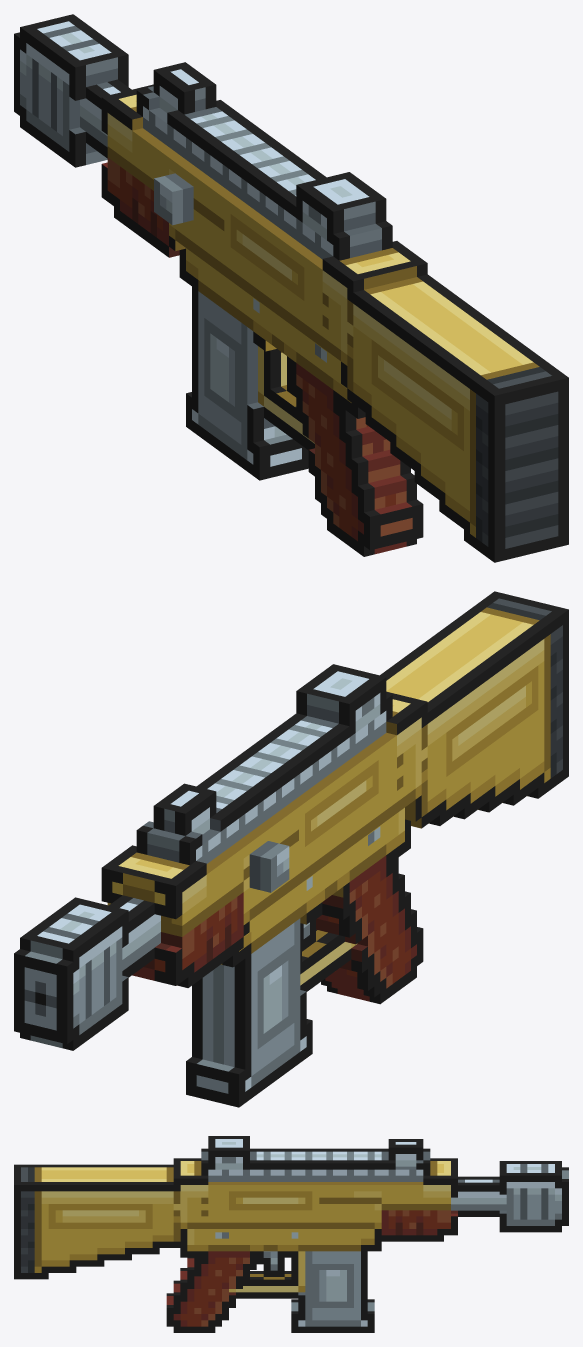
The model's file is Rifle.glb.
The picture shows the model from 3 angles, top to bottom: view 1: azimuth 30°, elevation 25°; view 2: azimuth 150°, elevation 25°; view 3: azimuth 270°, elevation 25°; orthographic projection. The views are drawn at different scales.
Visible parts, largest first — view 1: Body, Magazine, Slide; view 2: Body, Magazine, Slide; view 3: Body, Magazine, Trigger.
Part boxes in pixels (box(x1,y1,x2,y2)): Body: box(14, 14, 568, 562); Magazine: box(186, 287, 308, 480); Slide: box(154, 173, 193, 225); Body: box(14, 591, 568, 1050); Magazine: box(186, 918, 312, 1107); Slide: box(249, 841, 289, 892); Body: box(14, 1136, 568, 1332); Magazine: box(291, 1251, 374, 1332); Trigger: box(256, 1251, 284, 1276).
Size of the model in its own units: 0.478 by 1.54 by 4.25.
1 material, 1 textured.
